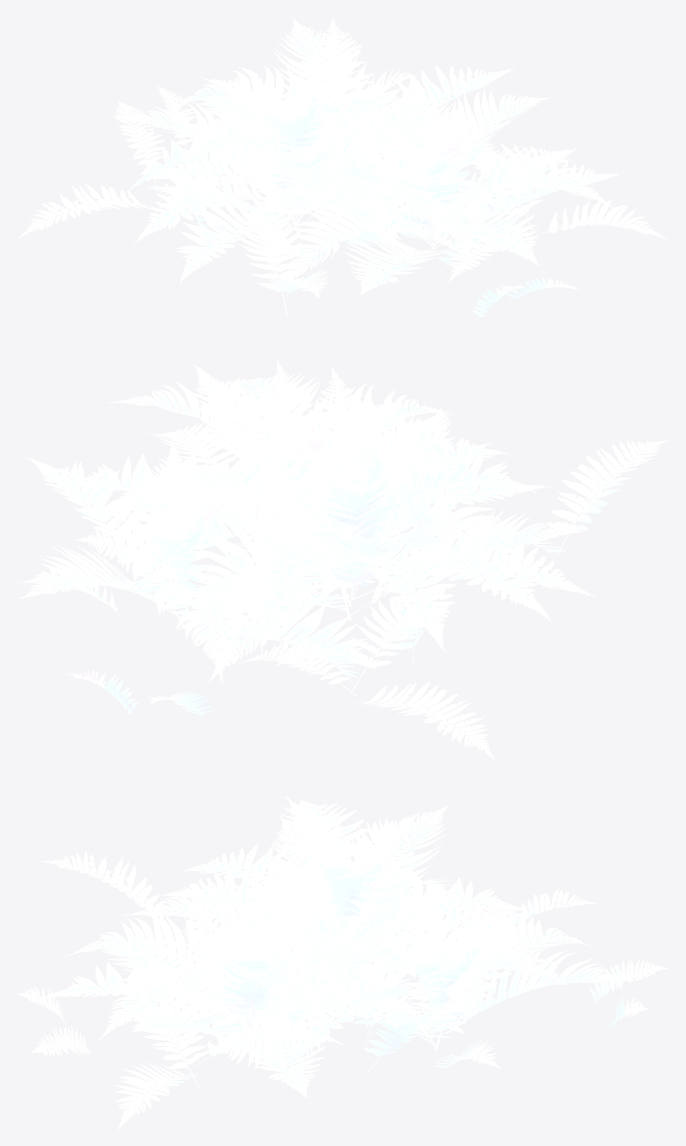
3 views of the same model, one above another, from view 1: azimuth 30°, elevation 25°; view 2: azimuth 150°, elevation 25°; view 3: azimuth 270°, elevation 25° (orthographic). The views are drawn at different scales.
Visible parts, largest first — view 1: SM_FH_Fern_01_LOD0; view 2: SM_FH_Fern_01_LOD0; view 3: SM_FH_Fern_01_LOD0.
Part boxes in pixels (x1,y1,x2,y2): SM_FH_Fern_01_LOD0: (18, 18, 668, 325); SM_FH_Fern_01_LOD0: (17, 360, 667, 760); SM_FH_Fern_01_LOD0: (17, 795, 668, 1128).
Size of the model in its own units: 1.03 by 0.4044 by 1.17.
Materials: 1 (1 with a texture image).
